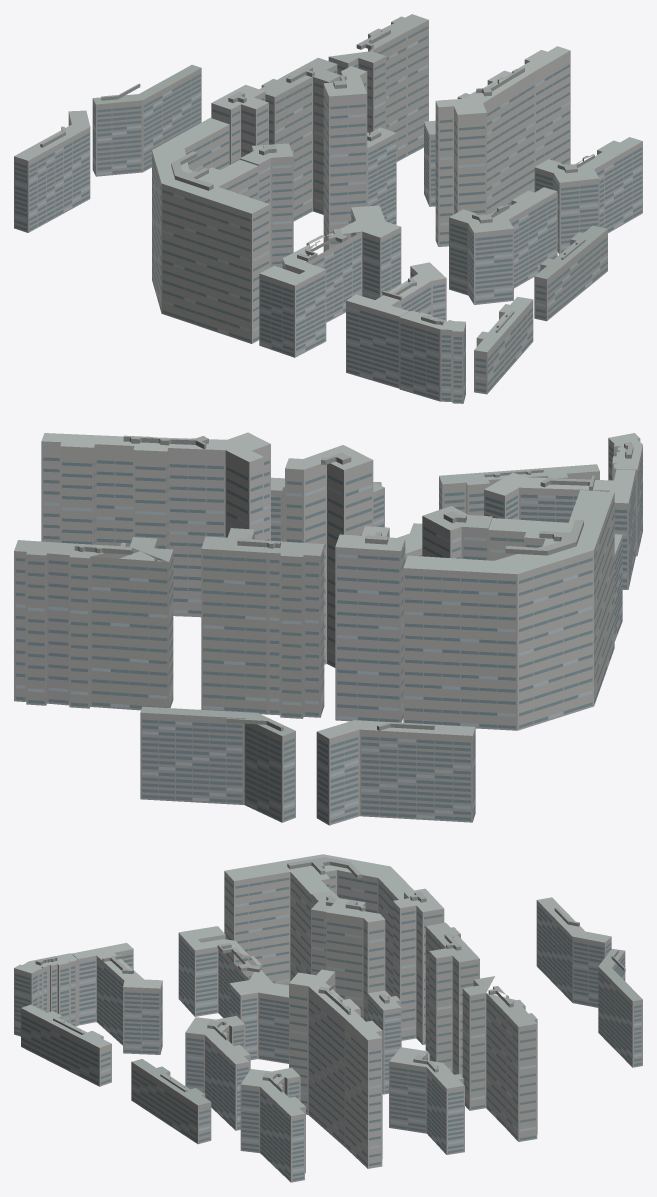
Rendered from apt-a10024216.glb.
3 views of the same model, one above another, from view 1: azimuth 30°, elevation 25°; view 2: azimuth 150°, elevation 25°; view 3: azimuth 270°, elevation 25° (orthographic). The views are drawn at different scales.
Parts seen in each view (by area): view 1: apt-a10024216; view 2: apt-a10024216; view 3: apt-a10024216.
Part boxes in pixels (x1,y1,x2,y2): apt-a10024216: (14,14,642,403); apt-a10024216: (14,432,642,825); apt-a10024216: (14,854,642,1182).
Bounding box in the file's own units: 323 × 109 × 392.
